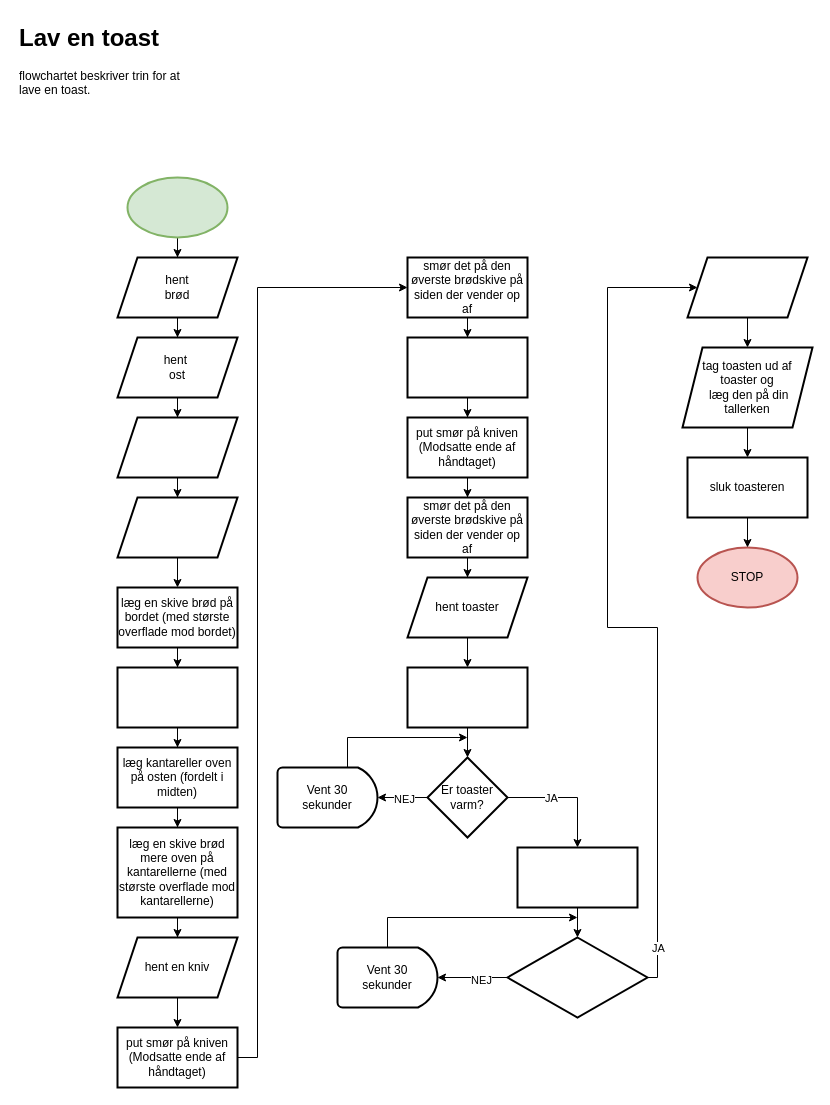
The diagram is 830 pixels wide and 1105 high, and some of its shapes have lost their labels. The shapes that lost their labels are listed below. From the top down, each one's centre as x and y in pixels, then its label:
At (177,207): "START".
At (747,287): "hent tallerken".
At (467,367): "vend toasten 180 grader på x-aksen".
At (177,447): "hent stegte kantareller".
At (177,527): "hent smør".
At (177,697): "læg en skive ost på brødet (med største overflade mod brødet)".
At (467,697): "sæt toasters stik i stikkontakt og tænd toaster".
At (577,877): "læg toasten i toasteren".
At (577,977): "Er toasten gylden og sprød?".
